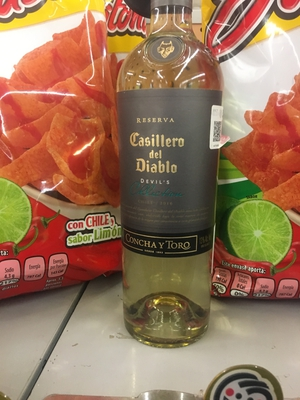casillero del diablo devils collection verde: (108, 14, 241, 350)
